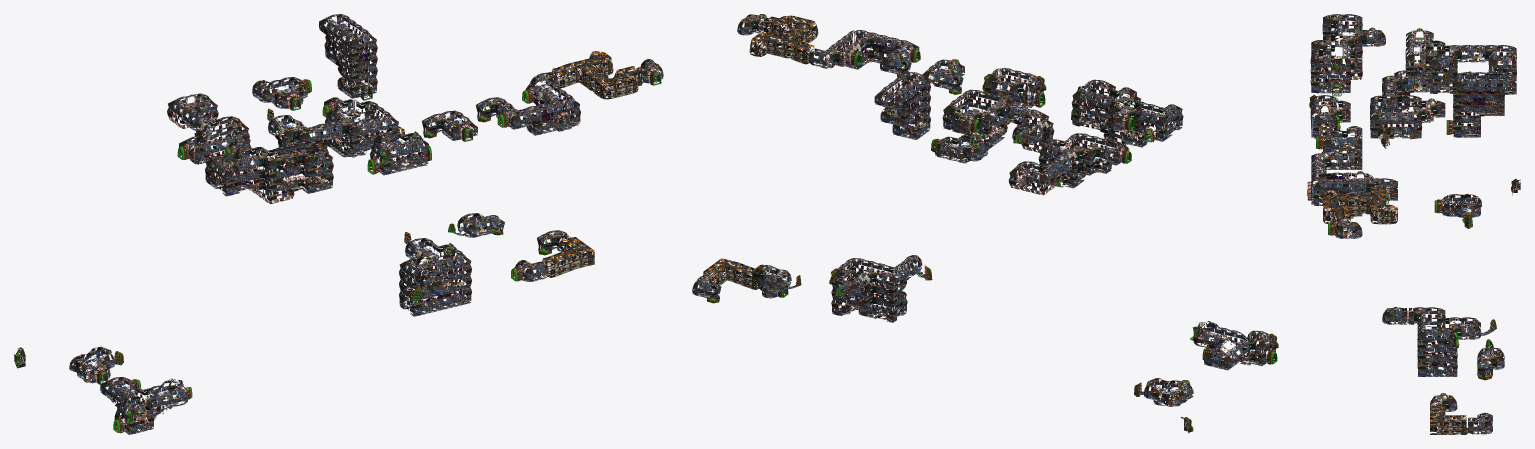
3 renders of one model, left to right at view 1: azimuth 30°, elevation 25°; view 2: azimuth 150°, elevation 25°; view 3: azimuth 270°, elevation 25°, orthographic. The views are drawn at different scales.
Bounding box in the file's own units: 206 × 98.38 × 71.94.
